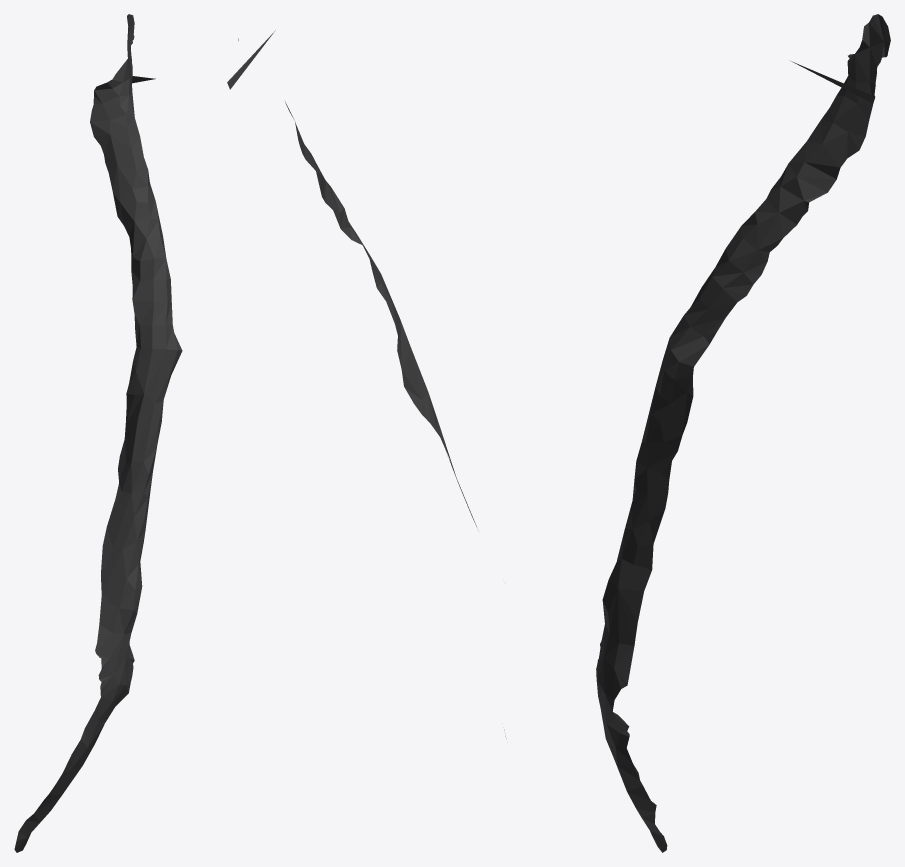
File: A_femoral_R_A_femoral_R.glb
3 renders of one model, left to right at view 1: azimuth 30°, elevation 25°; view 2: azimuth 150°, elevation 25°; view 3: azimuth 270°, elevation 25°, orthographic. The views are drawn at different scales.
Parts seen in each view (by area): view 1: A_femoral_R_A_femoral_R; view 2: A_femoral_R_A_femoral_R; view 3: A_femoral_R_A_femoral_R.
Boxes of the visible parts, box(x1,y1,x2,y2) form: A_femoral_R_A_femoral_R: box(14, 14, 182, 852); A_femoral_R_A_femoral_R: box(227, 30, 505, 736); A_femoral_R_A_femoral_R: box(596, 14, 890, 852).
Bounding box in the file's own units: 0.0152 × 0.05 × 0.0139.
1 material, 1 textured.
